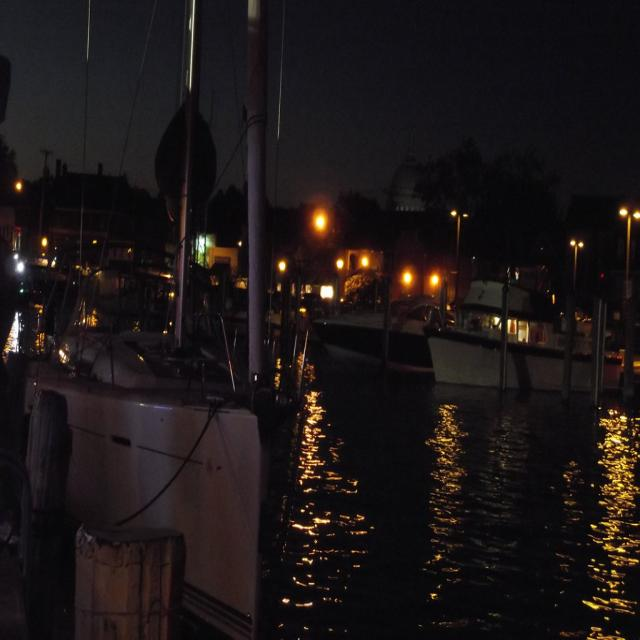Boat: (0, 32, 291, 640), (440, 291, 640, 439), (305, 257, 468, 370)
